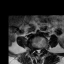CCS_severe_stenosis: (37, 46, 39, 55)
LFS_stenosis: (41, 45, 43, 51)
LLS_stenosis: (39, 46, 41, 54)
RFS_severe_stenosis: (33, 46, 36, 53)
RLS_severe_stenosis: (36, 47, 37, 54)
